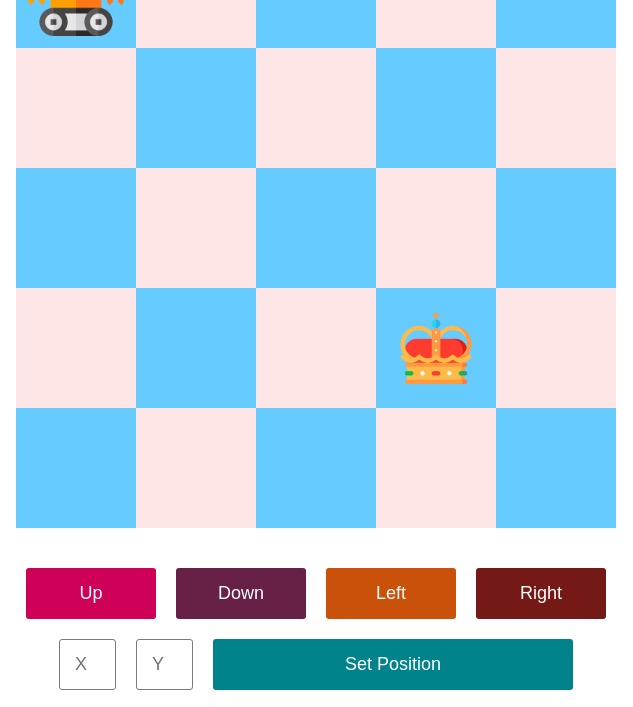
Scenario: shows happy message when robot is at the same location of crown
(page scrolled)
Type "3" into the number field with placeholder "X".
click(88, 664); type("3")  # box [59,639,116,690]
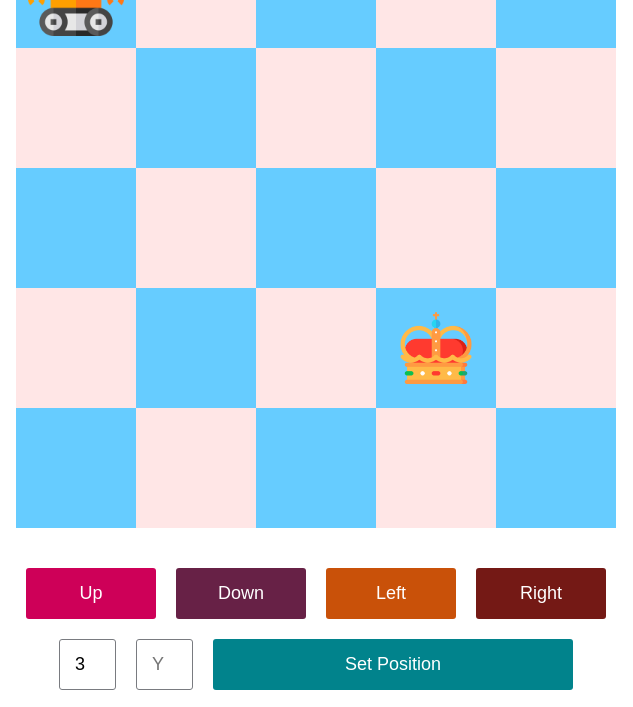
Type "3" into the number field with placeholder "Y".
click(164, 664); type("3")  # box [136,639,193,690]
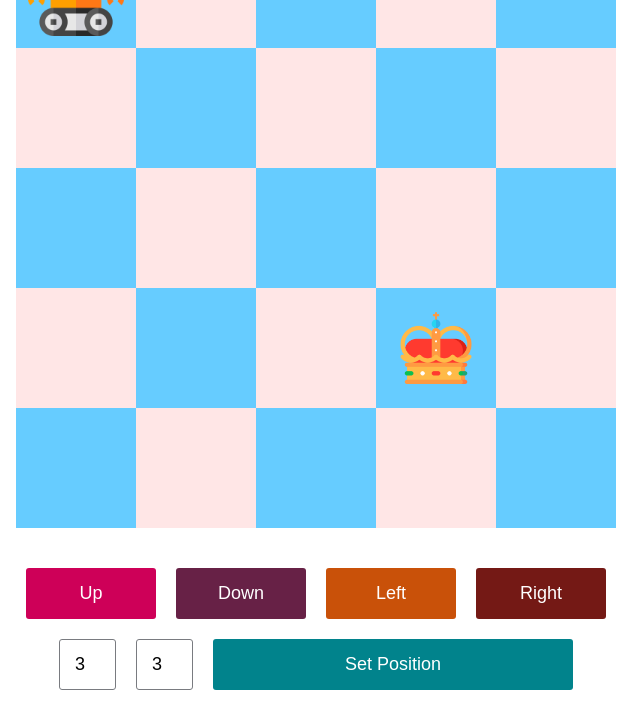
Click the button with class "btn--big".
click(393, 664)  # box [213,639,573,690]
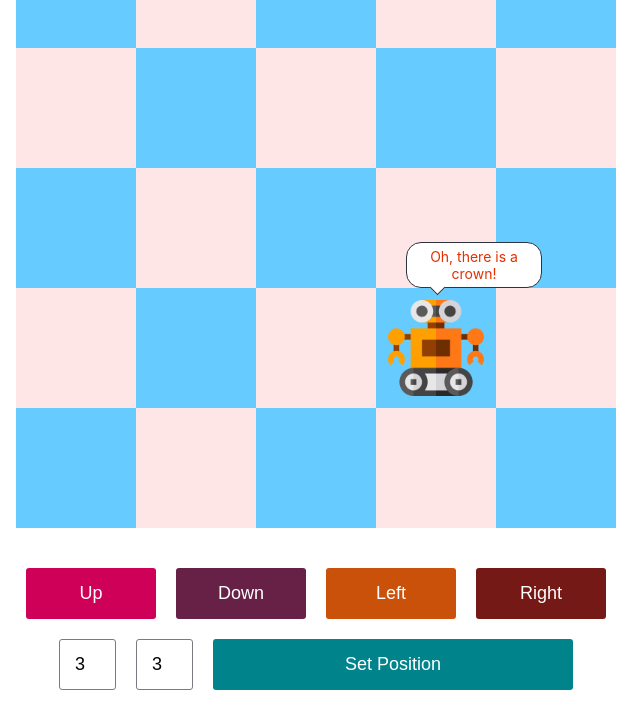
Now the text "Oh, there is a crown!" is shown, box [406,242,542,288]
